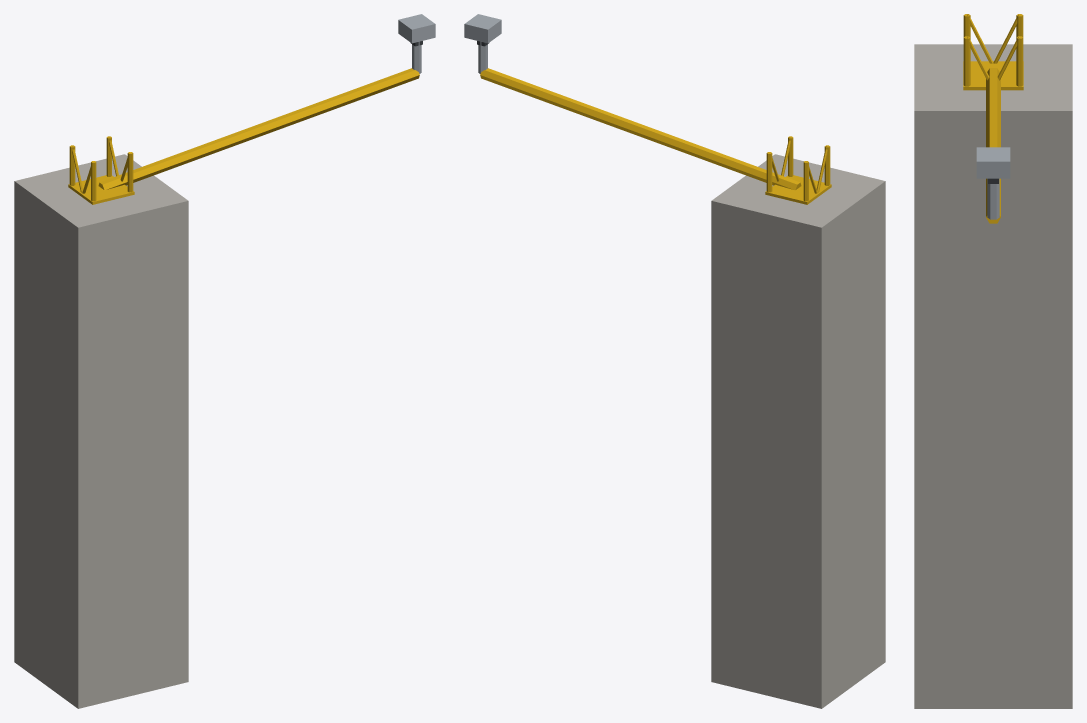
Rendered from PRP_Crane.fbx.
3 views of the same model, side by side, from view 1: azimuth 30°, elevation 25°; view 2: azimuth 150°, elevation 25°; view 3: azimuth 270°, elevation 25° (orthographic). The views are drawn at different scales.
Parts seen in each view (by area): view 1: PRP_Crane__COL_Main, PRP_Crane__BODY; view 2: PRP_Crane__COL_Main, PRP_Crane__BODY; view 3: PRP_Crane__COL_Main, PRP_Crane__BODY.
Part boxes in pixels (x1,y1,x2,y2): PRP_Crane__COL_Main: (14,154,188,708); PRP_Crane__BODY: (68,14,435,204); PRP_Crane__COL_Main: (711,154,885,708); PRP_Crane__BODY: (464,14,831,204); PRP_Crane__COL_Main: (914,44,1072,708); PRP_Crane__BODY: (963,14,1023,223).
Bounding box in the file's own units: 14.55 × 20.85 × 4.2.
